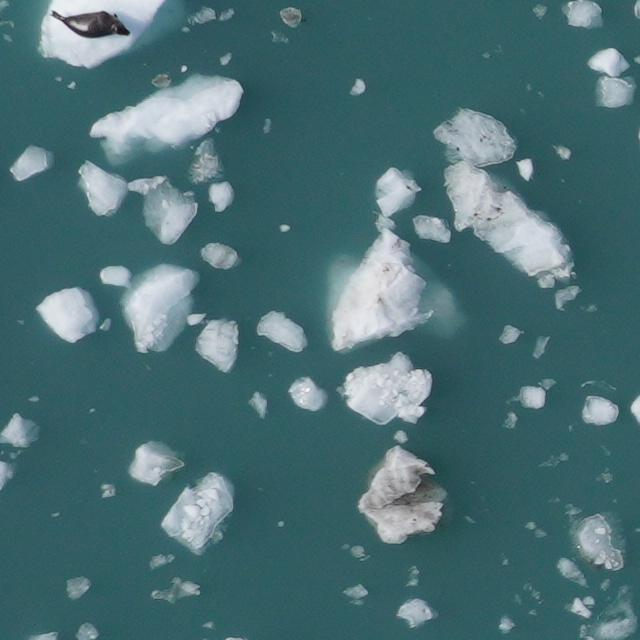seal: (51, 8, 129, 35)
